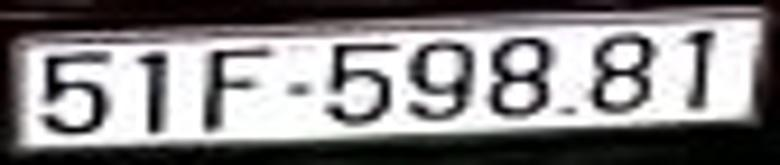-: (285, 79, 312, 98)
.: (561, 104, 578, 115)
1: (684, 27, 713, 111), (141, 52, 166, 135)
5: (42, 52, 106, 135), (328, 42, 391, 122)
8: (589, 36, 653, 113), (493, 39, 547, 115)
9: (408, 43, 469, 121)
F: (204, 47, 265, 129)
